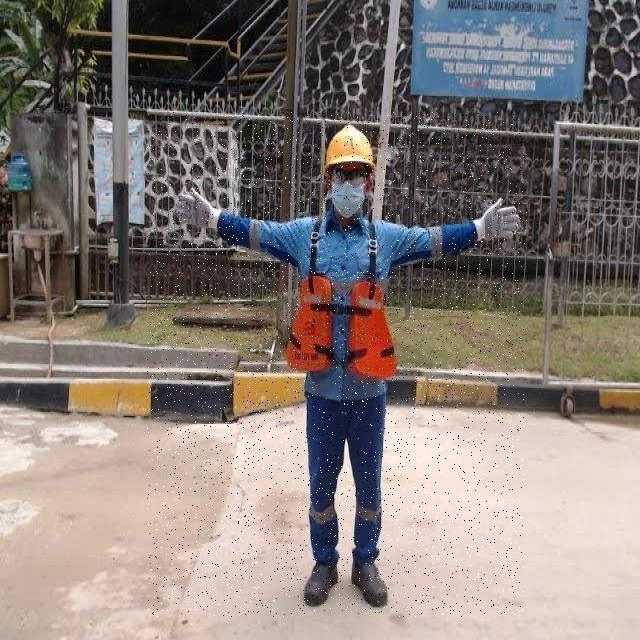gloves: (470, 197, 520, 243), (174, 188, 219, 232)
goggles: (329, 167, 368, 186)
helmet: (317, 114, 380, 178)
safety_vest: (285, 275, 397, 377)
